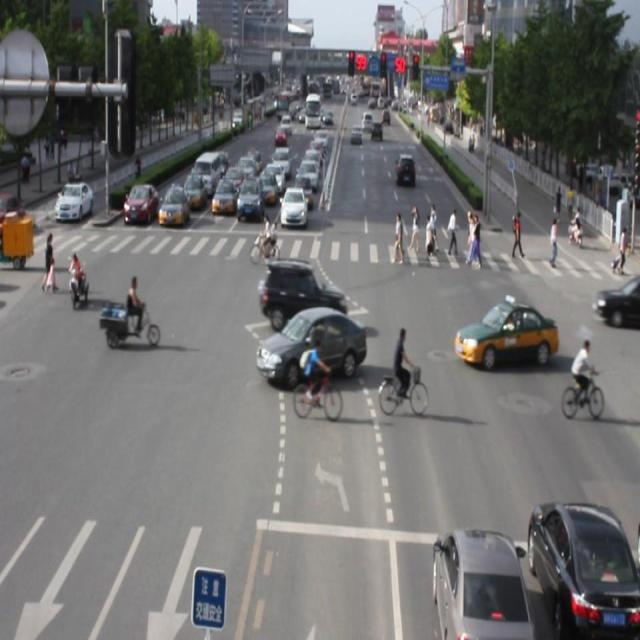car: (523, 495, 640, 640), (429, 524, 530, 640), (254, 306, 368, 386), (453, 296, 559, 374), (258, 256, 348, 326)
